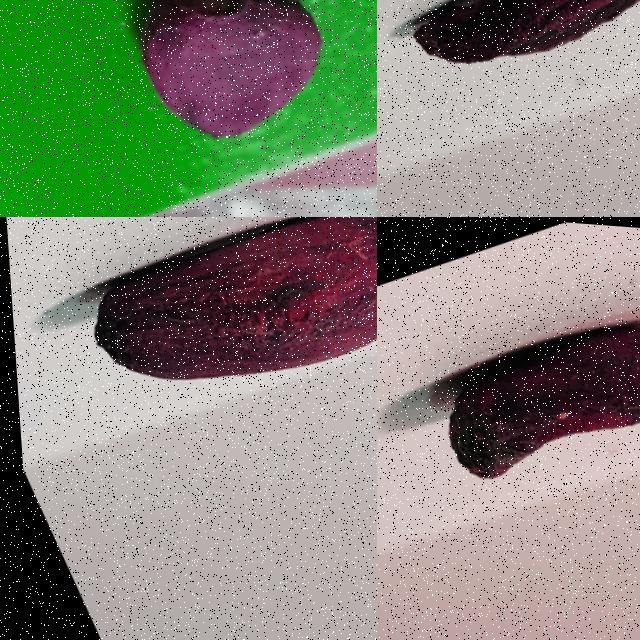Fine_cocoabeans: (0, 217, 376, 486)
Flat_cocoabeans: (377, 218, 639, 583), (13, 0, 376, 216), (377, 0, 639, 123)
